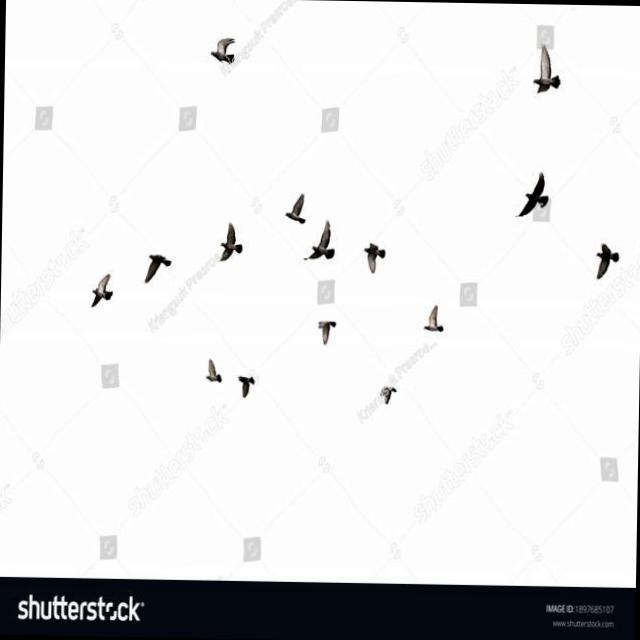bird: (510, 167, 552, 225), (526, 40, 568, 96), (134, 243, 178, 290), (587, 236, 627, 282), (303, 222, 344, 264), (202, 33, 244, 71), (212, 220, 248, 264), (362, 363, 402, 401), (86, 264, 117, 306), (307, 313, 344, 348), (280, 186, 308, 232), (231, 363, 261, 404), (198, 354, 236, 386), (418, 304, 454, 336), (361, 232, 387, 271)
